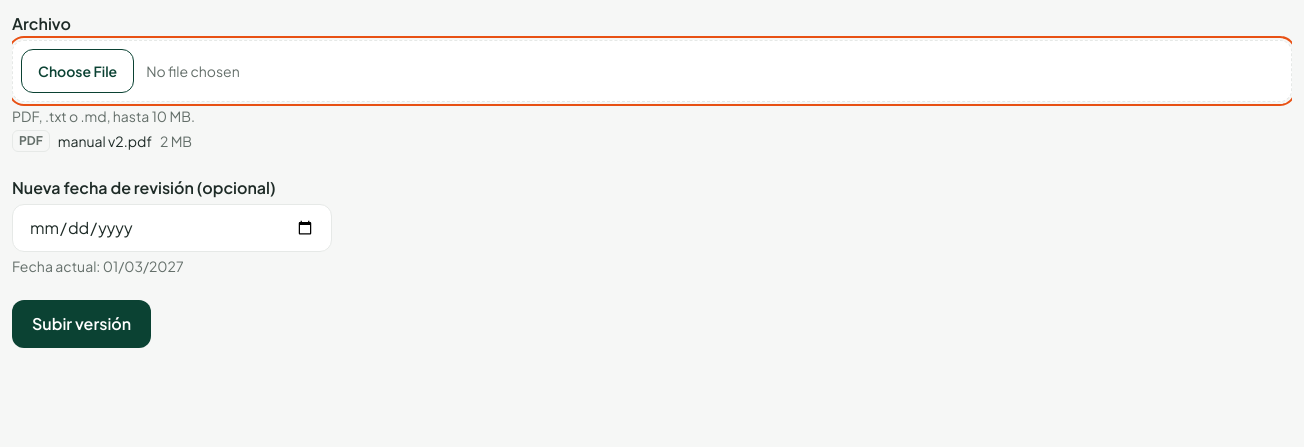
Test: NewVersionForm (spec 003, R6 a R9; plan 003, 6.3) › errores de la API: el archivo sigue elegido › 409 CONCURRENT_VERSION: recargar y volver a intentar
Earlier steps of the test are not shown.
Click the button "Subir versión": click(82, 324) [12,300,151,348]
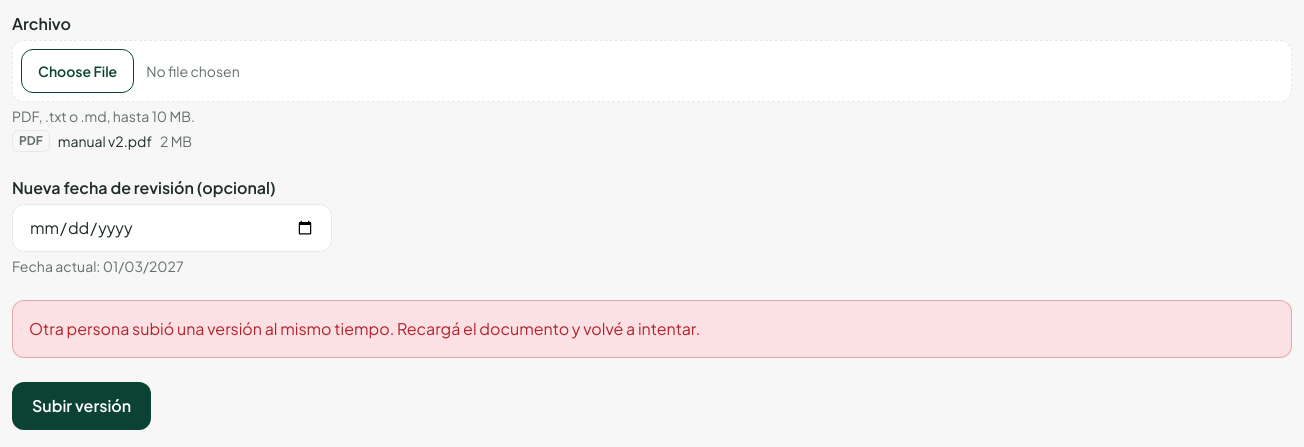
Now the message shows "Otra persona subió una versión al mismo tiempo.", box [29,318,700,339]
